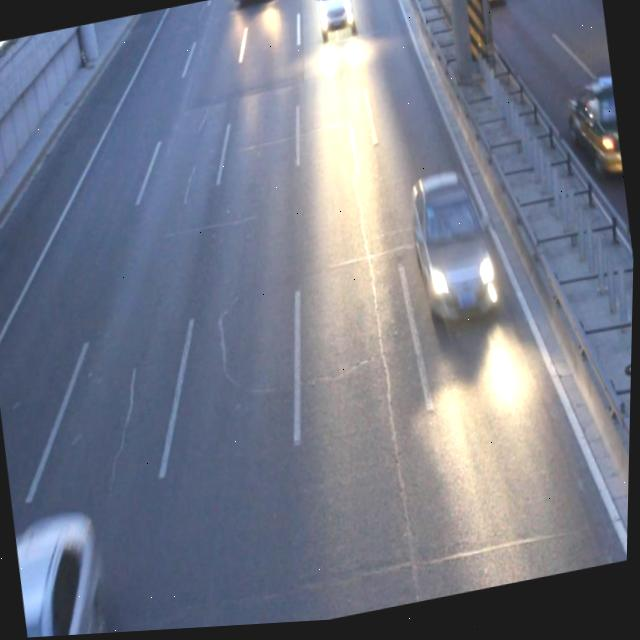car: (15, 514, 115, 639), (562, 79, 626, 188), (313, 0, 353, 33), (458, 0, 505, 11)
truck: (405, 173, 501, 331)
